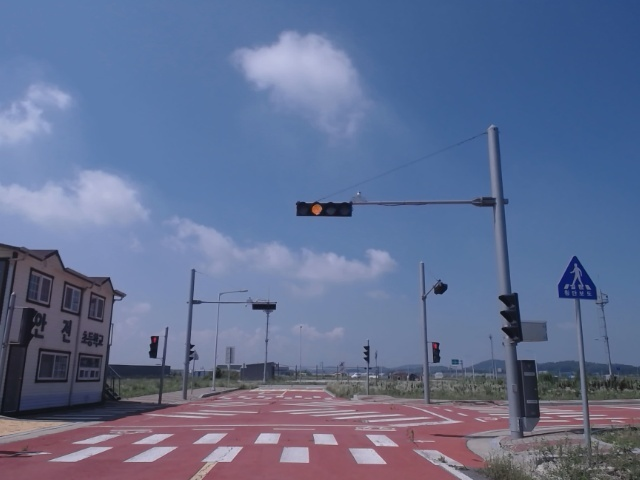orange_4: (297, 202, 353, 218)
